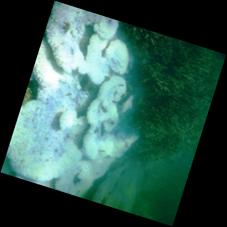bleached_corals: (2, 2, 170, 208)
